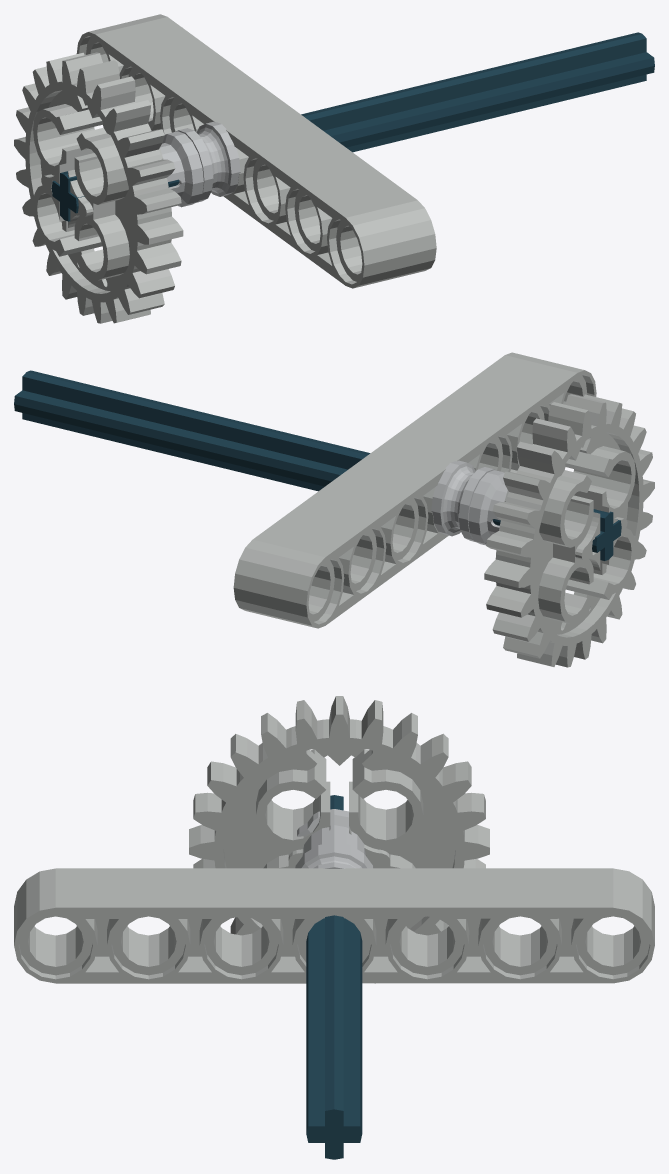
3 views of the same model, one above another, from view 1: azimuth 30°, elevation 25°; view 2: azimuth 150°, elevation 25°; view 3: azimuth 270°, elevation 25° (orthographic). The views are drawn at different scales.
Visible parts, largest first — view 1: Piece002, Piece000, Piece003, Piece004, Piece001; view 2: Piece002, Piece000, Piece003, Piece004, Piece001; view 3: Piece002, Piece000, Piece003, Piece001, Piece004.
Part boxes in pixels (left/top/right/bottom): Piece002: left=76, top=14, right=436, bottom=288; Piece000: left=14, top=52, right=183, bottom=323; Piece003: left=51, top=32, right=654, bottom=221; Piece004: left=176, top=121, right=240, bottom=202; Piece001: left=160, top=131, right=203, bottom=207; Piece002: left=233, top=352, right=596, bottom=628; Piece000: left=484, top=394, right=654, bottom=667; Piece003: left=14, top=370, right=621, bottom=560; Piece004: left=431, top=460, right=496, bottom=541; Piece001: left=468, top=470, right=507, bottom=545; Piece002: left=14, top=868, right=654, bottom=983; Piece000: left=189, top=696, right=489, bottom=983; Piece003: left=306, top=795, right=362, bottom=1159; Piece001: left=295, top=809, right=373, bottom=868; Piece004: left=298, top=847, right=370, bottom=868.
Bounding box in the file's own units: 160 × 64.79 × 138.
